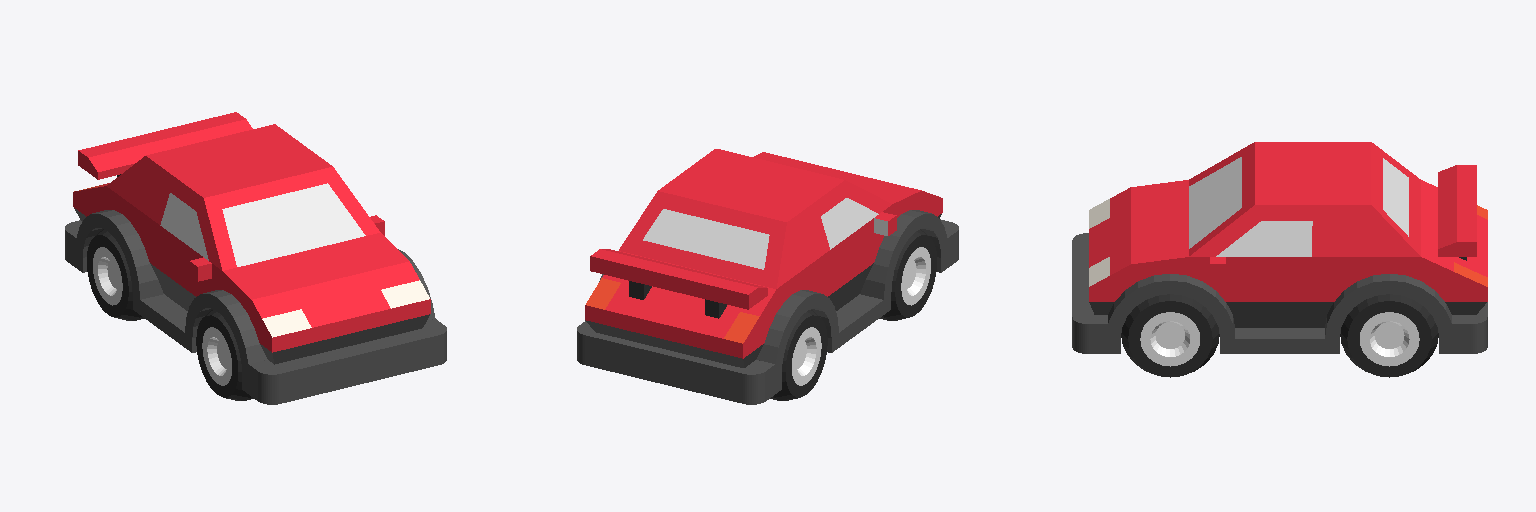
Rendered from sedanSport.obj.
3 renders of one model, left to right at view 1: azimuth 30°, elevation 25°; view 2: azimuth 150°, elevation 25°; view 3: azimuth 270°, elevation 25°, orthographic.
Parts seen in each view (by area): view 1: body, spoiler, wheel_backRight, wheel_frontRight; view 2: body, spoiler, wheel_frontRight, wheel_backRight; view 3: body, wheel_backLeft, wheel_frontLeft, spoiler.
Part boxes in pixels (x1,y1,x2,y2): body: (65, 124, 446, 404); spoiler: (78, 112, 252, 179); wheel_backRight: (87, 229, 144, 320); wheel_frontRight: (196, 310, 253, 400); body: (577, 149, 958, 404); spoiler: (590, 249, 767, 318); wheel_frontRight: (879, 229, 936, 320); wheel_backRight: (770, 310, 827, 400); body: (1072, 142, 1487, 353); wheel_backLeft: (1340, 294, 1438, 377); wheel_frontLeft: (1121, 294, 1219, 377); spoiler: (1438, 165, 1476, 260).
Bounding box in the file's own units: 51.18 × 43.31 × 98.43.